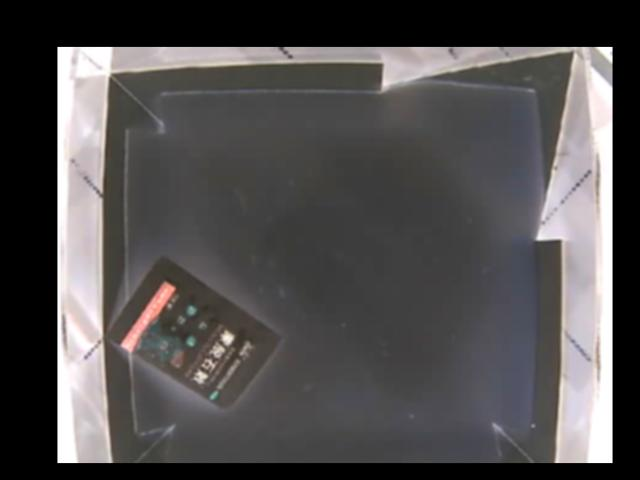Medicine: (109, 256, 282, 411)
